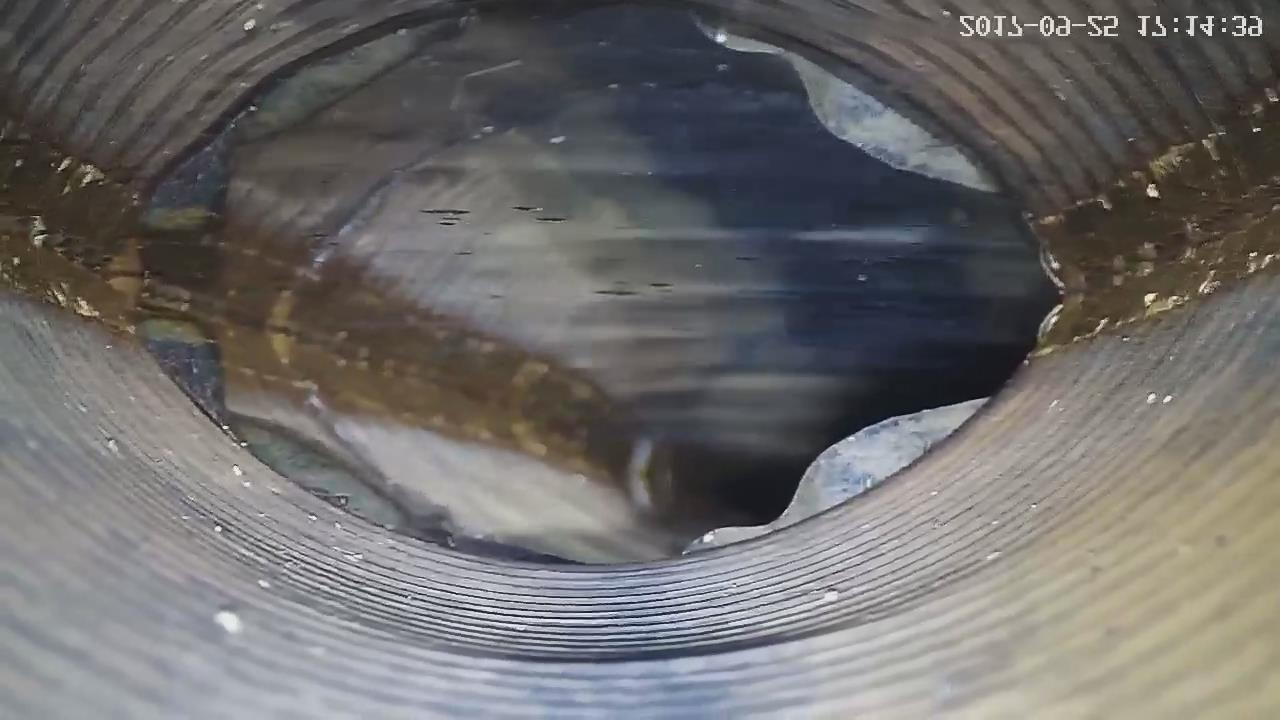JKCL: (687, 398, 988, 551)
